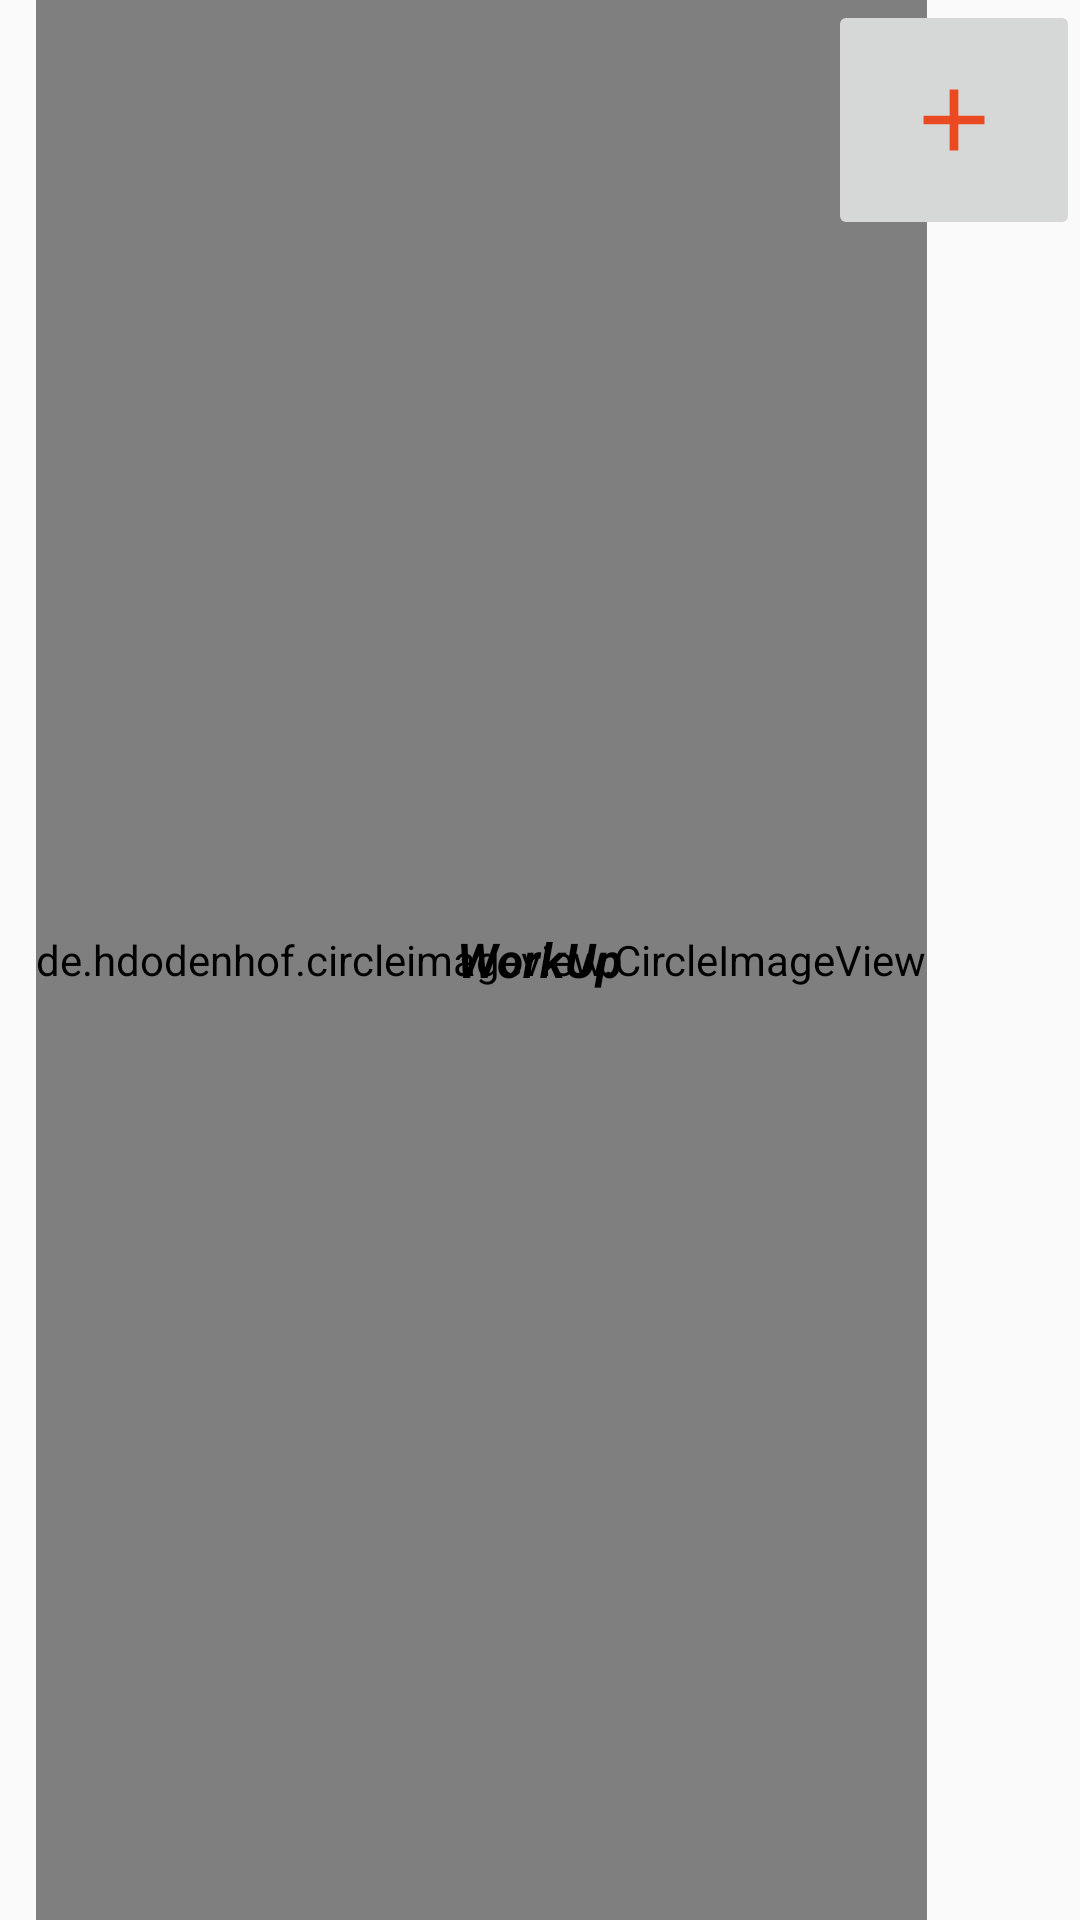

Where to tap for icons on this 1080*1920 app screen, as (x,y):
add contact: (960,120)
